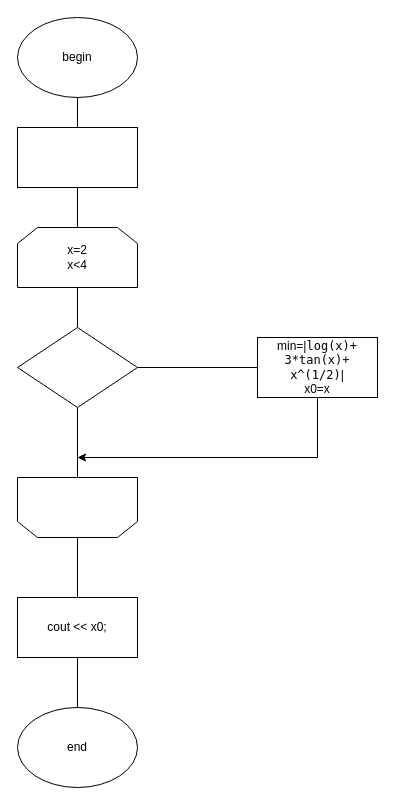
Image size: 395x805. Some labels were removed from this diagram. Each missing label, with the box of its shape:
min > | log (x)+ 3 * tan (x)+ x^( 1 / 2 ) |: (16, 326, 138, 408)
n . x=x0=2 min=| log (x)+ 3 * tan (x)+ x^( 1 / 2 ) |: (16, 126, 138, 188)
x+=2./n;: (16, 476, 138, 538)
